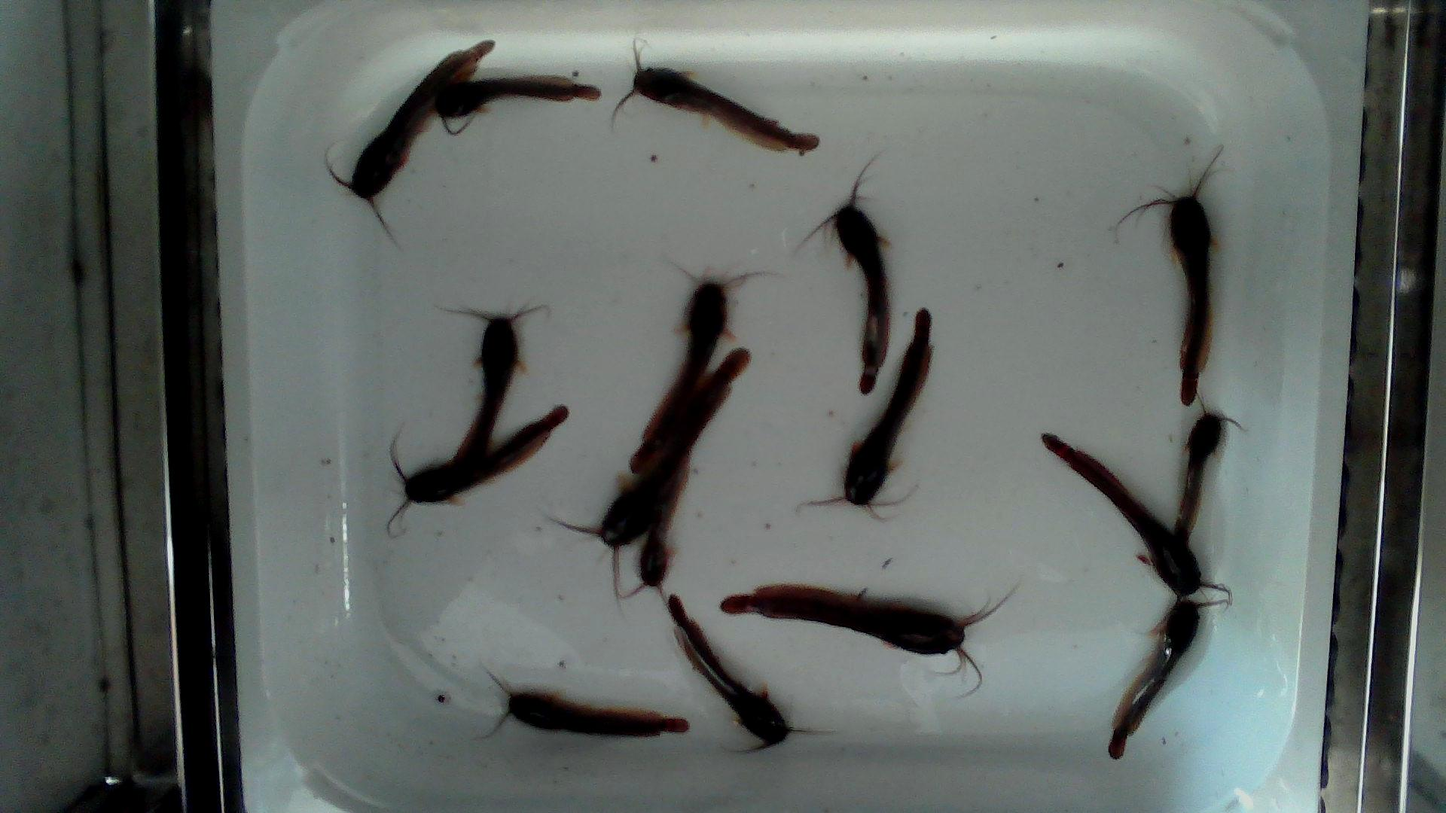lele: (554, 347, 751, 600), (1043, 434, 1232, 604), (627, 261, 774, 475), (386, 406, 568, 538), (347, 41, 493, 201), (1110, 599, 1229, 760), (667, 595, 791, 746), (721, 584, 981, 654), (844, 308, 931, 505), (447, 306, 551, 465), (633, 69, 818, 154), (829, 190, 889, 393), (620, 452, 691, 606), (1173, 394, 1242, 546), (1167, 196, 1211, 404), (508, 693, 688, 736), (438, 76, 600, 118)
